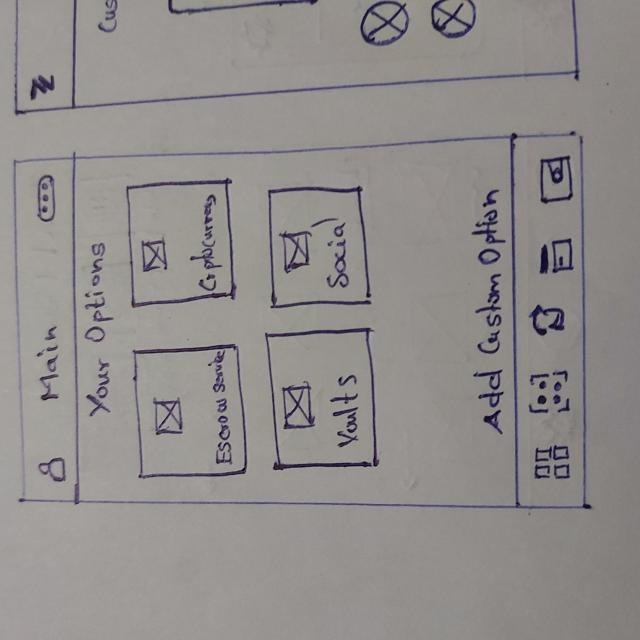ActionButton: (14, 171, 75, 232)
AppBar: (11, 156, 86, 505)
BottomNavBar: (510, 131, 590, 508)
BottomNavItems: (510, 140, 584, 213), (512, 356, 587, 425), (508, 224, 585, 286), (510, 438, 592, 492), (505, 298, 591, 346)
Icon: (525, 367, 572, 417), (539, 155, 573, 201), (535, 443, 574, 483), (538, 235, 574, 276), (528, 305, 569, 336), (37, 454, 70, 487), (36, 174, 57, 220)
Image: (283, 383, 313, 431), (151, 399, 187, 435), (281, 231, 310, 272), (143, 242, 170, 272)
Layout: (259, 330, 387, 468), (132, 342, 250, 476), (124, 180, 240, 304), (266, 186, 373, 307)
MainLayout: (6, 129, 606, 516)
TextView: (480, 189, 509, 442), (87, 237, 116, 413), (316, 213, 353, 293), (209, 350, 233, 463), (34, 322, 66, 403), (331, 374, 360, 448), (198, 193, 220, 289)
